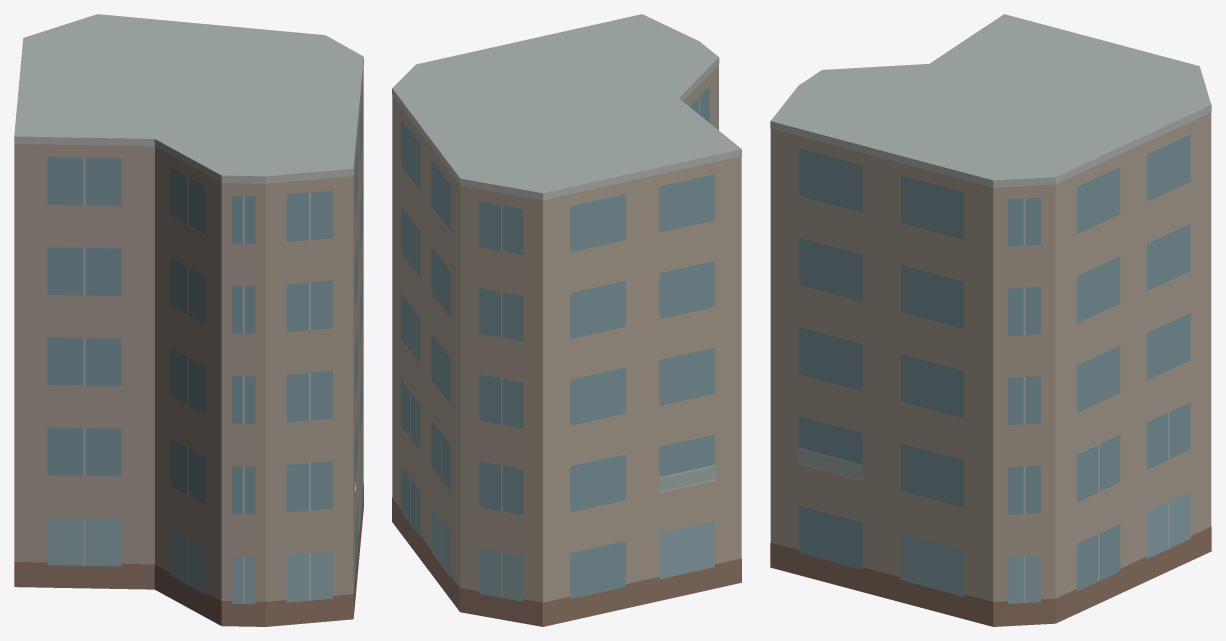
Rendered from survey-upis-32773970.glb.
3 renders of one model, left to right at view 1: azimuth 30°, elevation 25°; view 2: azimuth 150°, elevation 25°; view 3: azimuth 270°, elevation 25°, orthographic. The views are drawn at different scales.
Visible parts, largest first — view 1: survey-upis-32773970.tmp; view 2: survey-upis-32773970.tmp; view 3: survey-upis-32773970.tmp.
Boxes of the visible parts, box(x1,y1,x2,y2) form: survey-upis-32773970.tmp: box(14, 14, 363, 626); survey-upis-32773970.tmp: box(392, 14, 741, 626); survey-upis-32773970.tmp: box(770, 14, 1211, 626).
Size of the model in its own units: 11.92 by 14.9 by 13.35.
